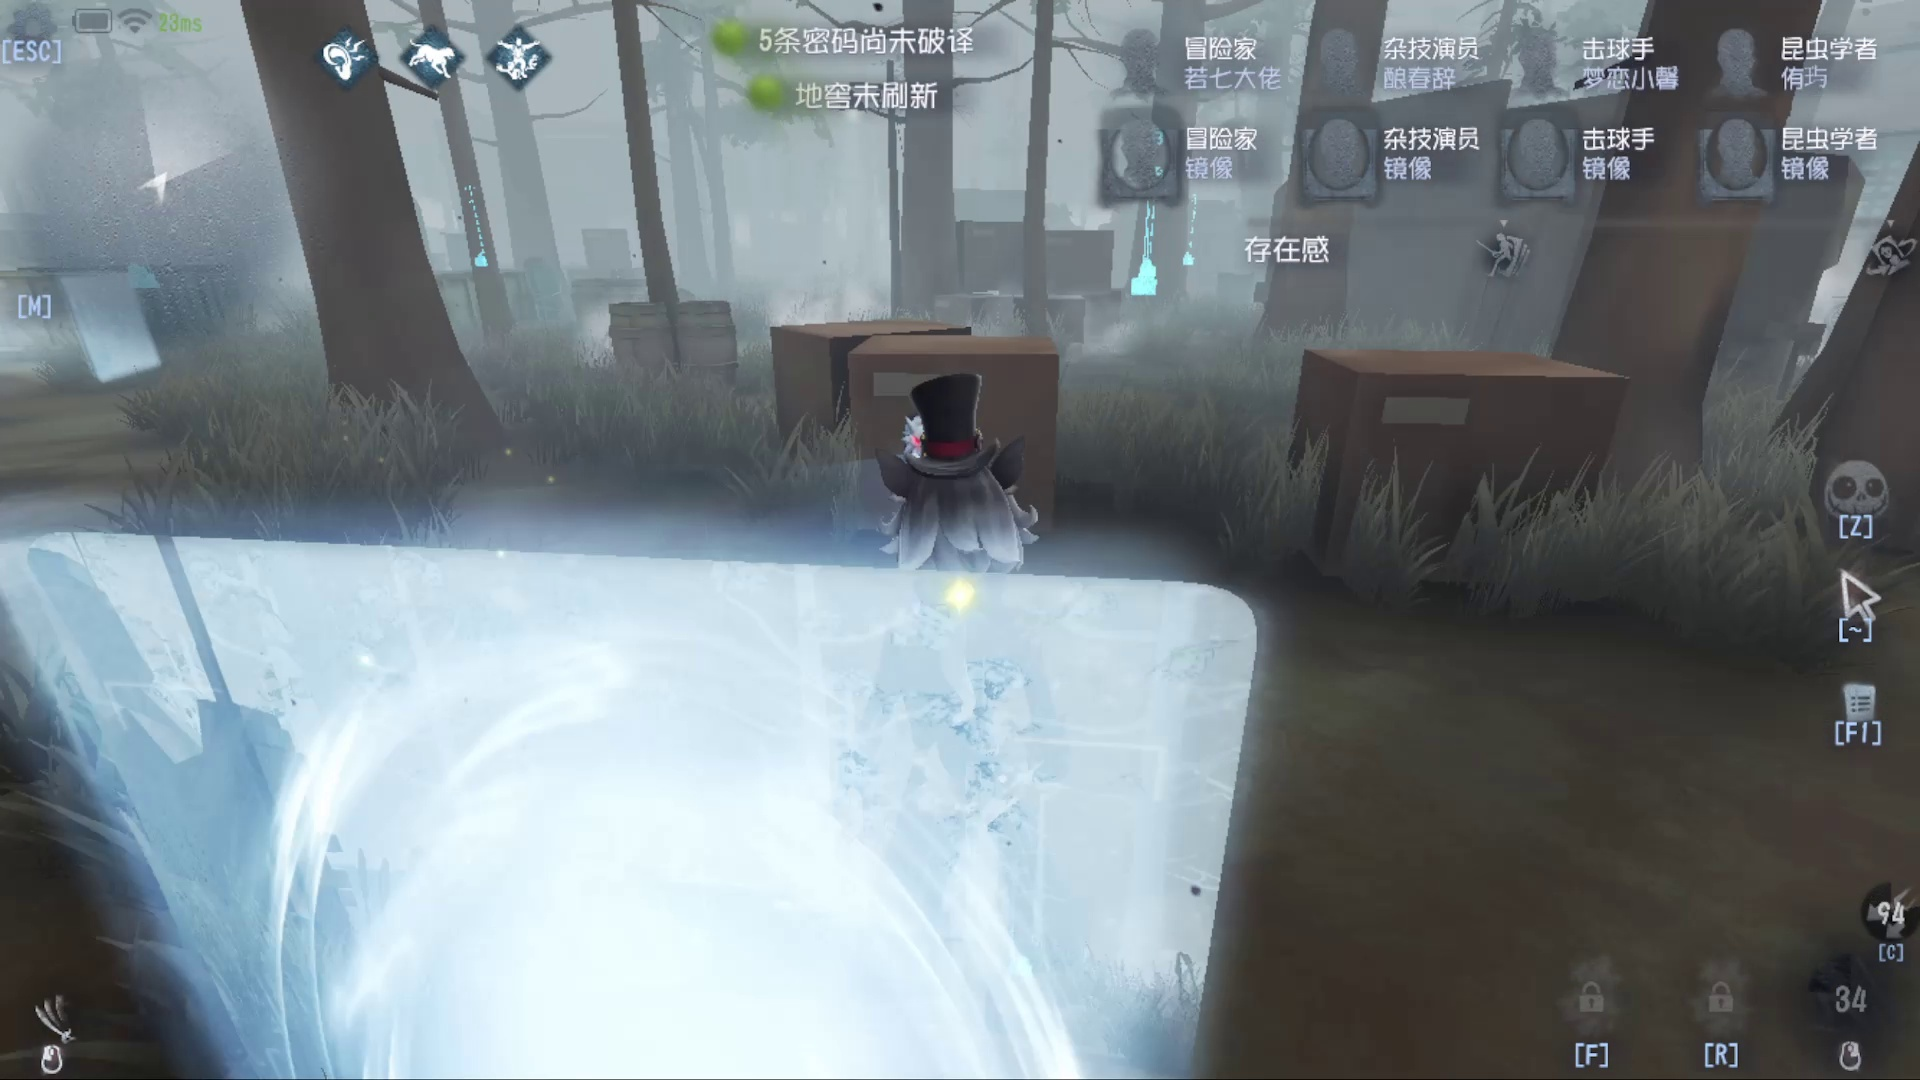密码机: (1120, 131, 1168, 320), (456, 175, 527, 284), (1176, 179, 1217, 289)
